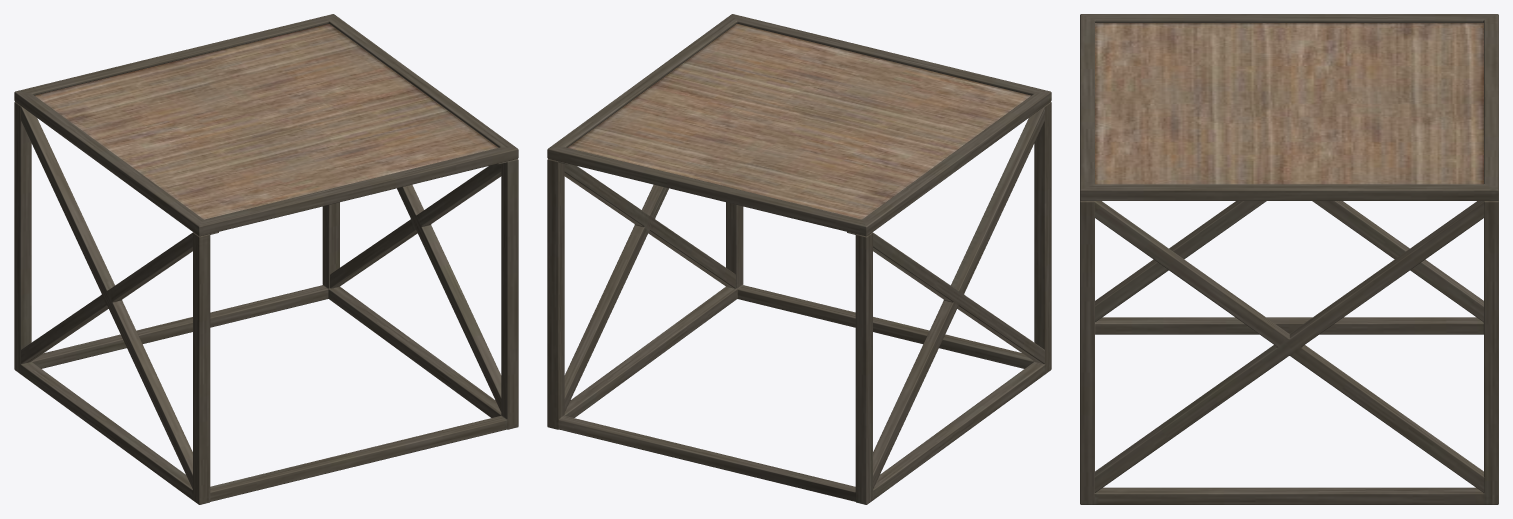
The picture shows the model from 3 angles, left to right: view 1: azimuth 30°, elevation 25°; view 2: azimuth 150°, elevation 25°; view 3: azimuth 270°, elevation 25°; orthographic projection. The views are drawn at different scales.
Visible parts, largest first — view 1: RootNode; view 2: RootNode; view 3: RootNode.
Boxes of the visible parts, box(x1,y1,x2,y2) form: RootNode: box(14, 14, 518, 504); RootNode: box(547, 14, 1051, 504); RootNode: box(1080, 14, 1498, 504).
Bounding box in the file's own units: 0.6099 × 0.508 × 0.6116.
1 material, 1 textured.
